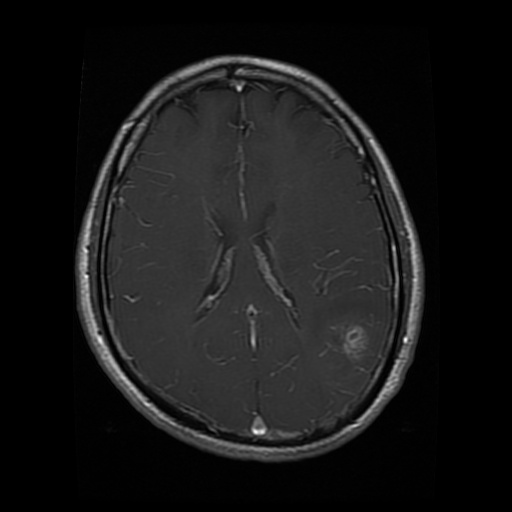glioma: (327, 318, 375, 360)
